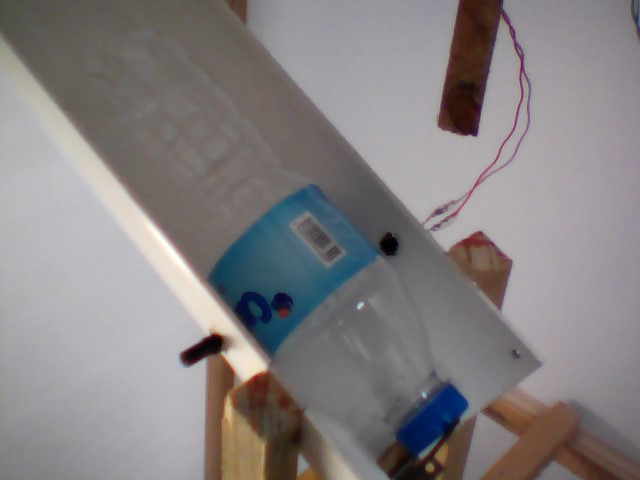plastico: (53, 26, 478, 460)
